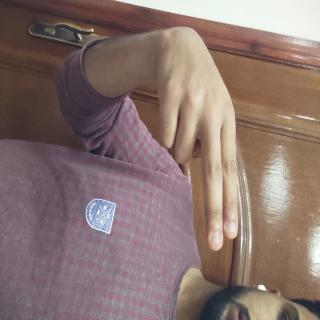AYN: (12, 99, 198, 225)
